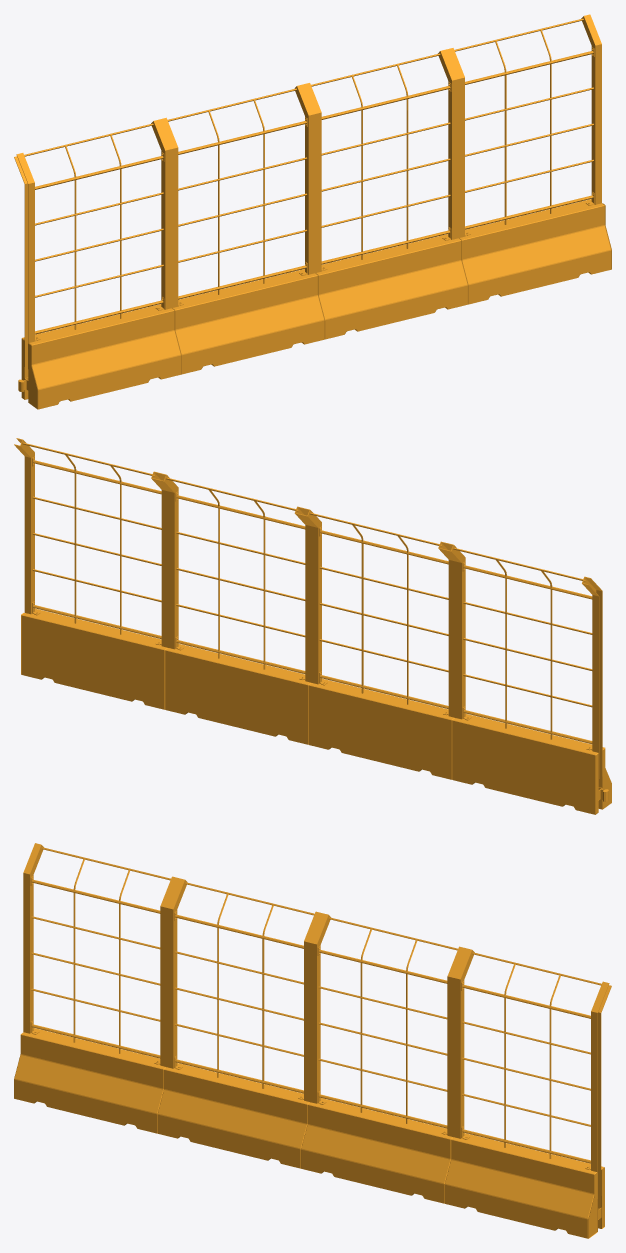
The model's file is SM_Fence_Road_Debrisguard_Bar_10m.fbx.
3 renders of one model, top to bottom at view 1: azimuth 30°, elevation 25°; view 2: azimuth 150°, elevation 25°; view 3: azimuth 330°, elevation 25°, orthographic.
Parts seen in each view (by area): view 1: SM_Fence_Road_Debrisguard_Bar_10m; view 2: SM_Fence_Road_Debrisguard_Bar_10m; view 3: SM_Fence_Road_Debrisguard_Bar_10m.
Boxes of the visible parts, bbox=[...] form: SM_Fence_Road_Debrisguard_Bar_10m: bbox=[14, 14, 611, 409]; SM_Fence_Road_Debrisguard_Bar_10m: bbox=[14, 438, 611, 814]; SM_Fence_Road_Debrisguard_Bar_10m: bbox=[14, 843, 611, 1238].
Size of the model in its own units: 10.14 by 4 by 0.7223.
